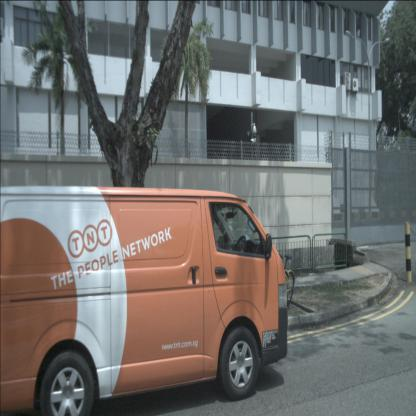vehicle-bicycle: (274, 252, 296, 310)
vehicle-car: (0, 184, 288, 416)
